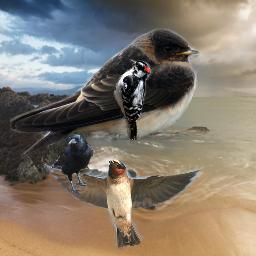Crow: (45, 131, 93, 197)
Swallow: (10, 28, 201, 159), (40, 158, 203, 249)
Woodpecker: (113, 58, 152, 140)
